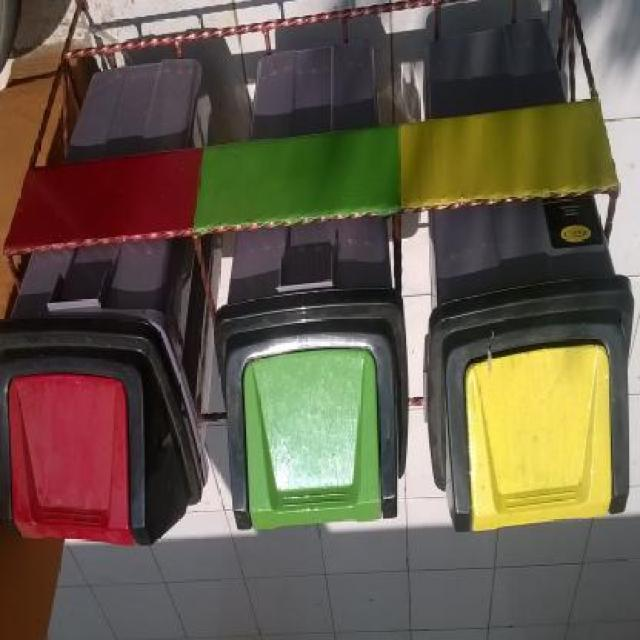garbage container: (421, 9, 640, 545), (1, 45, 215, 567), (215, 42, 415, 538)
